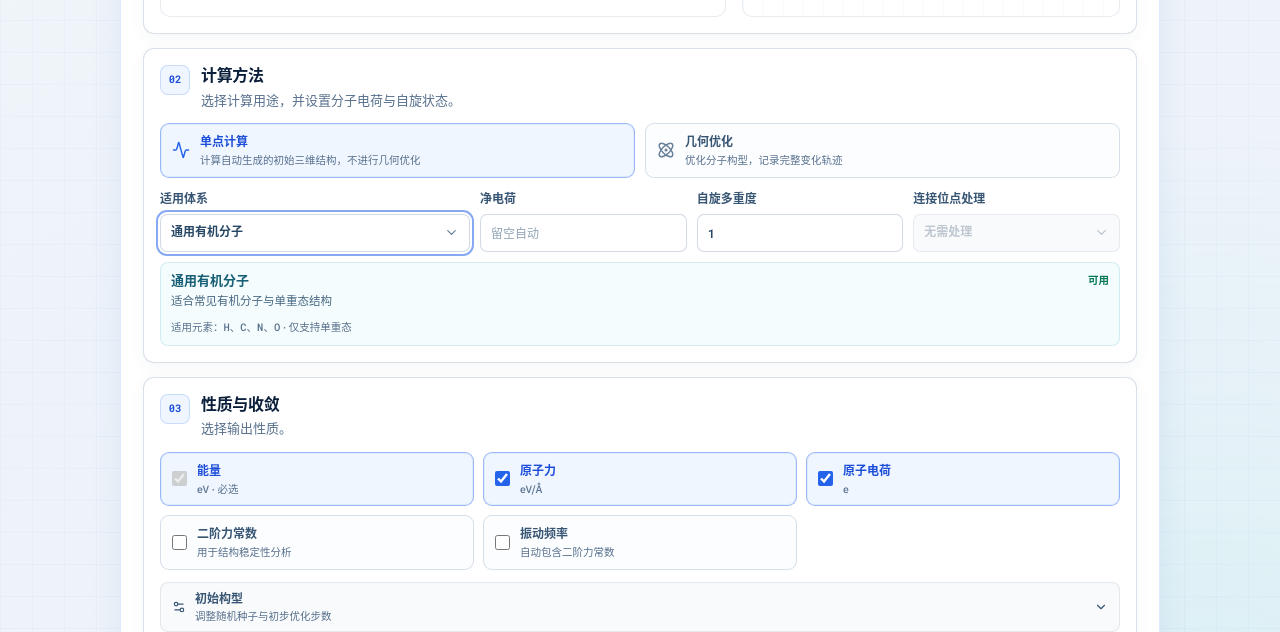
Test: MonomerDftPage workbench › presents calculation purposes in the styled dropdown without exposing model names
(page scrolled)
Click the dropdown named "适用体系" at (207, 232), box [160,214,470,252]
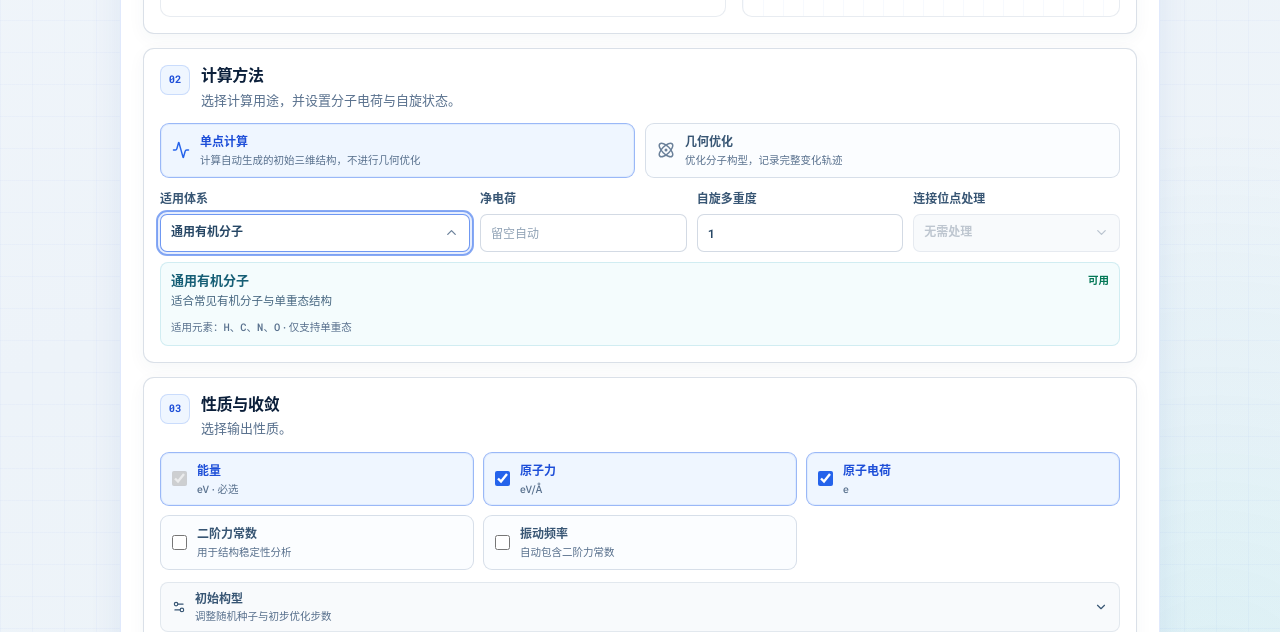
Press Tab in the dropdown named "适用体系", box [160,214,470,252]
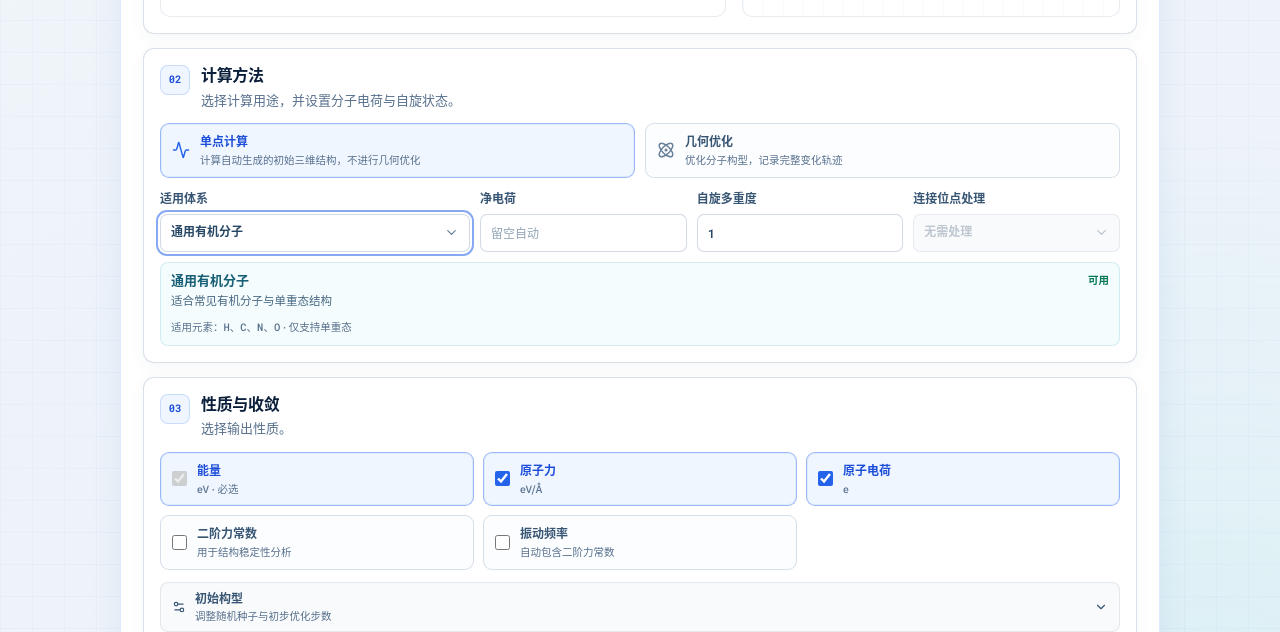
Click the dropdown named "适用体系" at (207, 232), box [160,214,470,252]
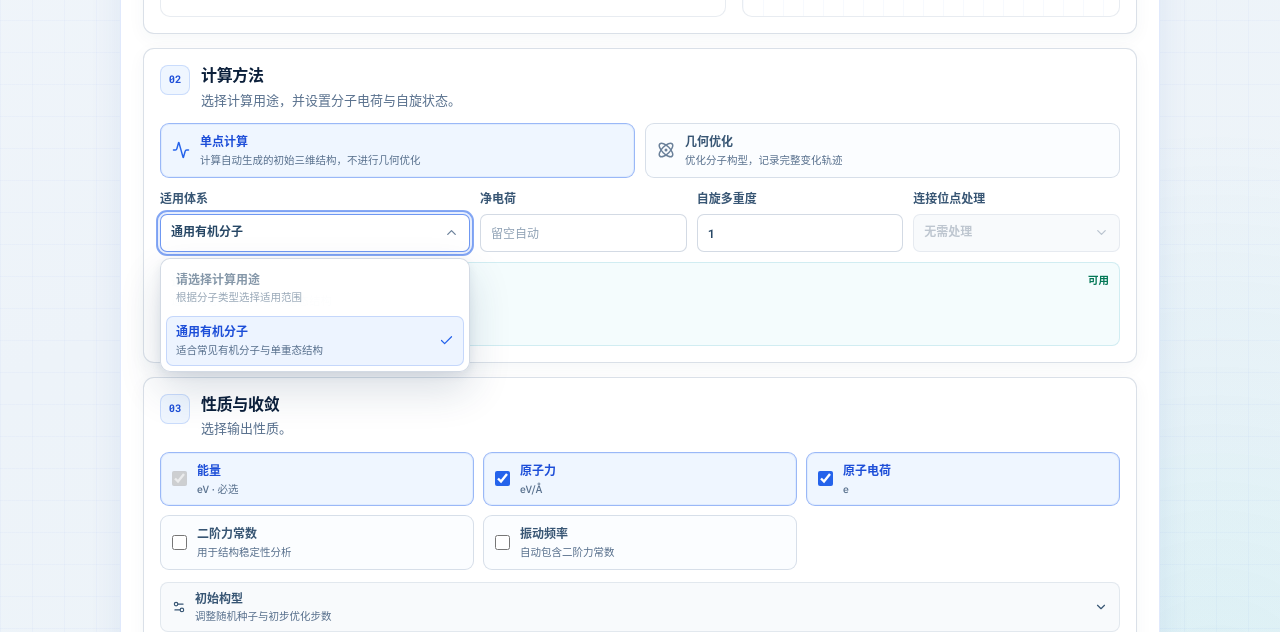
Press Escape in the dropdown named "适用体系", box [160,214,470,252]
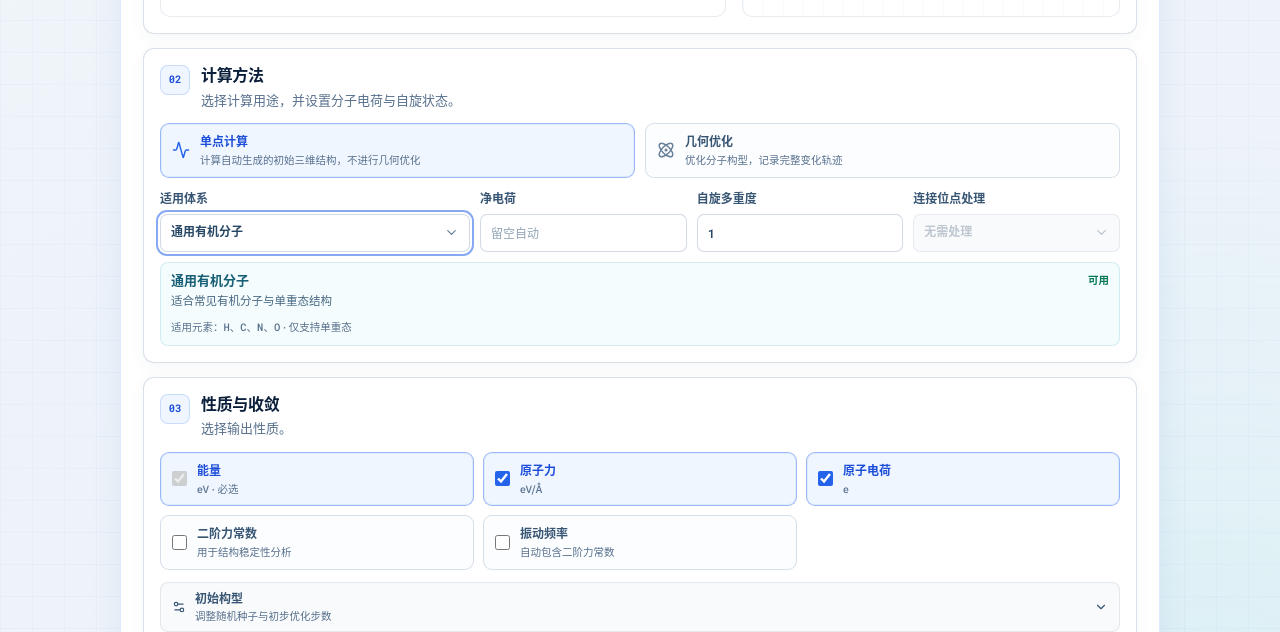
Result: the list is gone
